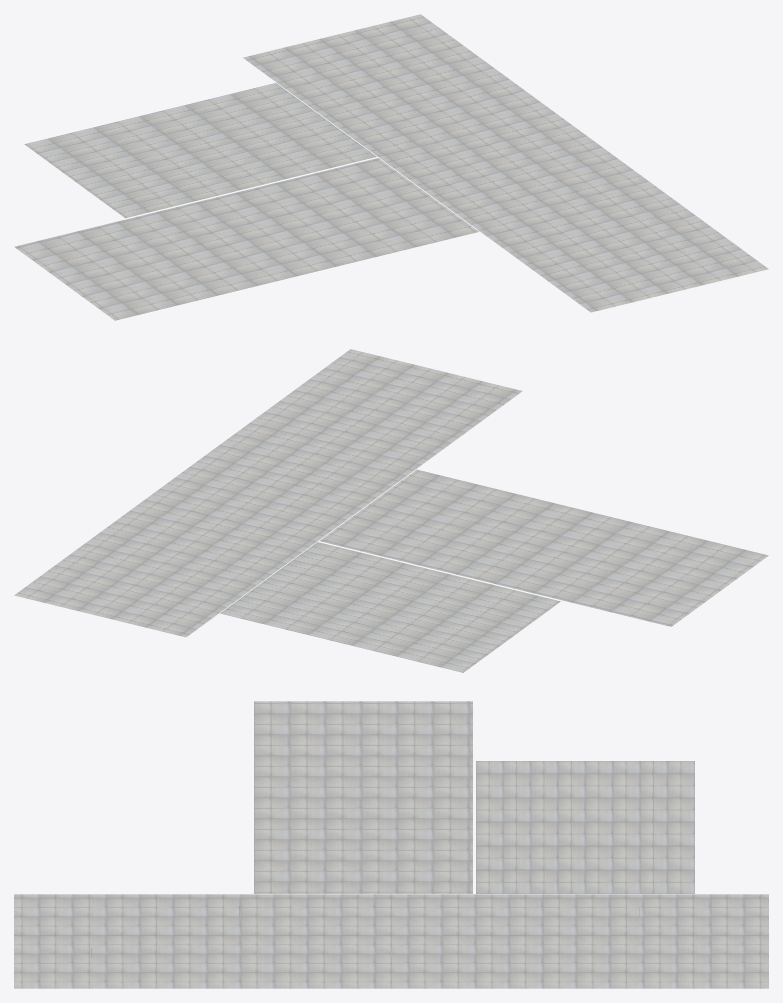
File: roofAndLights.FBX
3 renders of one model, top to bottom at view 1: azimuth 30°, elevation 25°; view 2: azimuth 150°, elevation 25°; view 3: azimuth 270°, elevation 25°, orthographic. The views are drawn at different scales.
Parts seen in each view (by area): view 1: techoRomInten, techoLobby, techoConsult; view 2: techoRomInten, techoLobby, techoConsult; view 3: techoRomInten, techoLobby, techoConsult.
Boxes of the visible parts, box(x1,y1,x2,y2) form: techoRomInten: box(243, 14, 768, 312); techoLobby: box(14, 158, 478, 320); techoConsult: box(24, 83, 376, 218); techoRomInten: box(14, 349, 522, 637); techoLobby: box(319, 469, 768, 626); techoConsult: box(220, 542, 560, 672); techoRomInten: box(14, 894, 768, 988); techoLobby: box(254, 701, 472, 893); techoConsult: box(476, 761, 694, 893).
Size of the model in its own units: 3307 by 1.65 by 3670.
2 materials, 2 textured.
